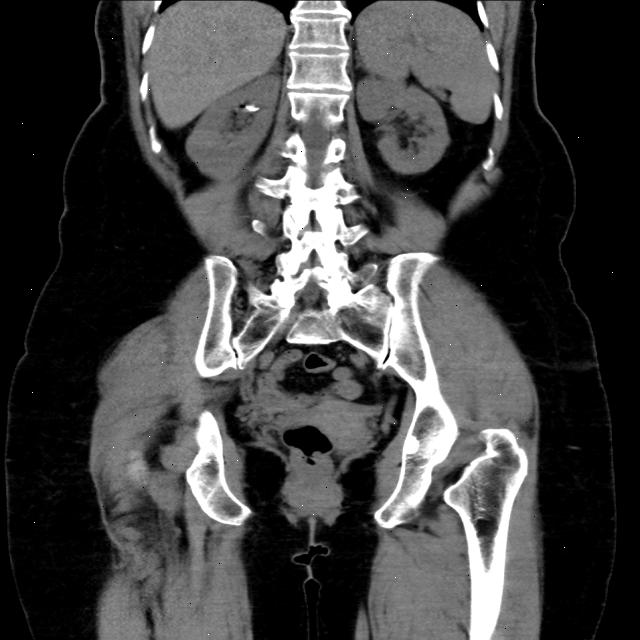kidneystone: (246, 104, 259, 112)
